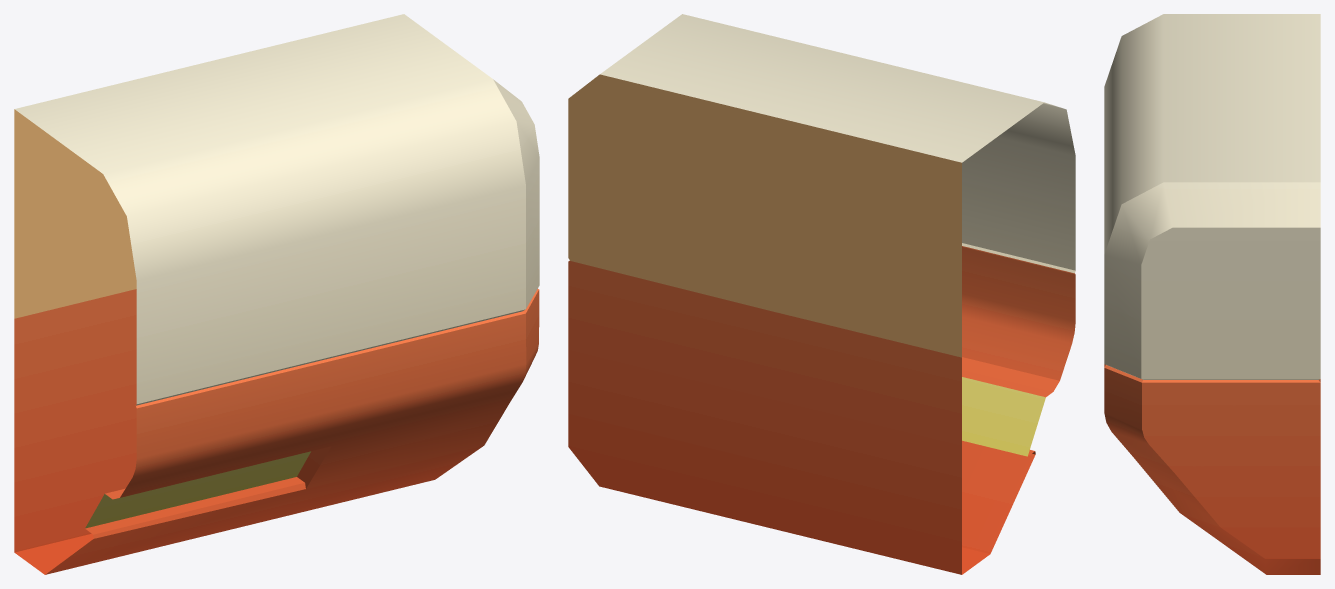
Rendered from sm_futuristic_horizontalseparator_right.fbx.
3 renders of one model, left to right at view 1: azimuth 30°, elevation 25°; view 2: azimuth 150°, elevation 25°; view 3: azimuth 270°, elevation 25°, orthographic. The views are drawn at different scales.
Visible parts, largest first — view 1: sm_futuristic_horizontalseparator_right; view 2: sm_futuristic_horizontalseparator_right; view 3: sm_futuristic_horizontalseparator_right.
Boxes of the visible parts, x1,y1,x2,y2 form: sm_futuristic_horizontalseparator_right: [14, 14, 539, 574]; sm_futuristic_horizontalseparator_right: [568, 14, 1075, 574]; sm_futuristic_horizontalseparator_right: [1104, 14, 1320, 574].
Size of the model in its own units: 100 by 50 by 100.
